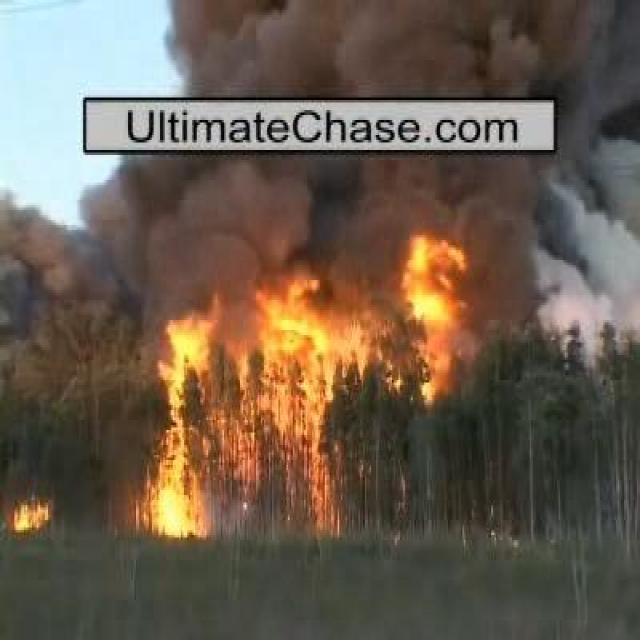fire: (140, 461, 205, 538)
smoke: (89, 158, 594, 274), (171, 10, 577, 100)
